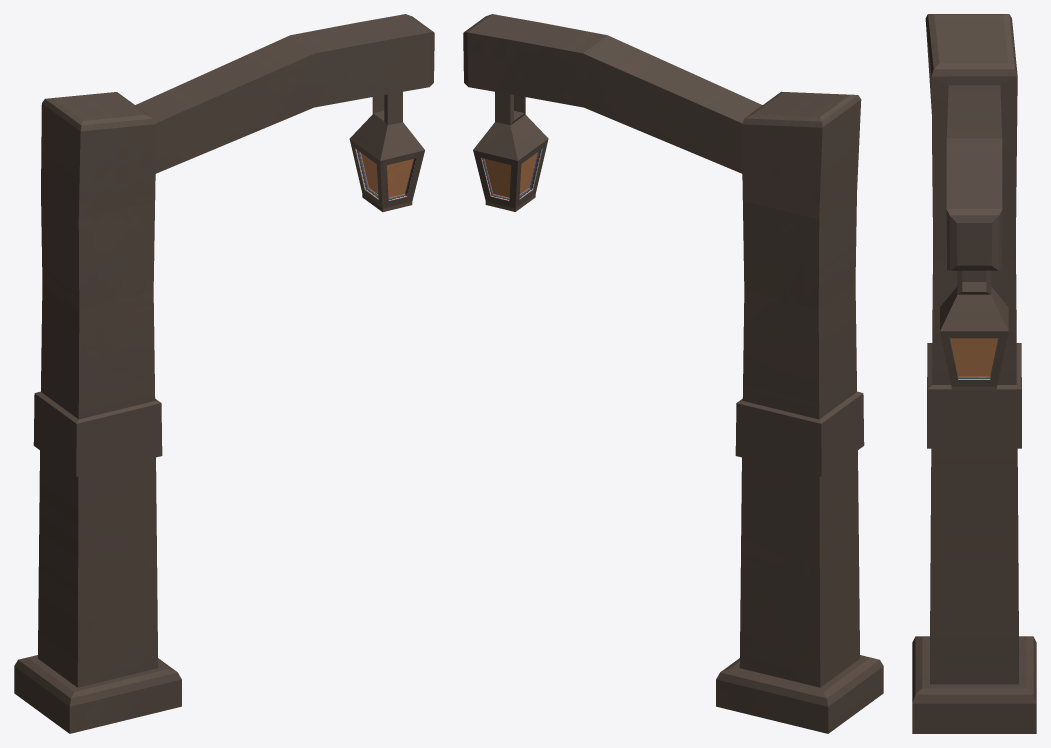
The model's file is HolzLampe.fbx.
The picture shows the model from 3 angles, left to right: view 1: azimuth 30°, elevation 25°; view 2: azimuth 150°, elevation 25°; view 3: azimuth 270°, elevation 25°; orthographic projection. The views are drawn at different scales.
Parts seen in each view (by area): view 1: Holz Lampe; view 2: Holz Lampe; view 3: Holz Lampe.
Part boxes in pixels (x1,y1,x2,y2): Holz Lampe: (14,14,434,733); Holz Lampe: (463,14,883,733); Holz Lampe: (912,14,1036,733).
Bounding box in the file's own units: 226 × 341 × 56.62.
Materials: 1 (1 with a texture image).
